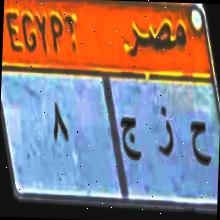7aa: (184, 110, 212, 168)
8: (46, 102, 72, 150)
jeem: (118, 107, 144, 166)
zay: (152, 98, 176, 158)
